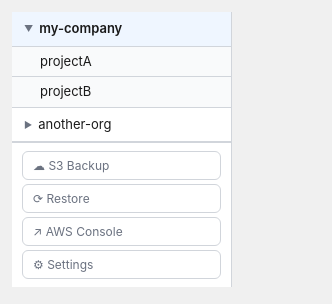
Scenario: Sidebar — context menus › shows Delete project on right-click of project
This screenshot has width=332, height=304.
Right-click the button "projectA": (122, 62) [12, 46, 231, 77]
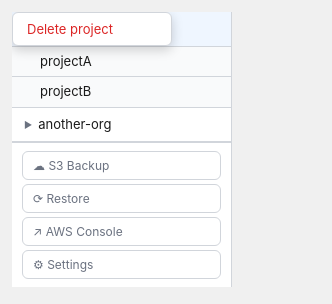
Expected: the button "Delete project" is shown, [13, 13, 171, 45]
